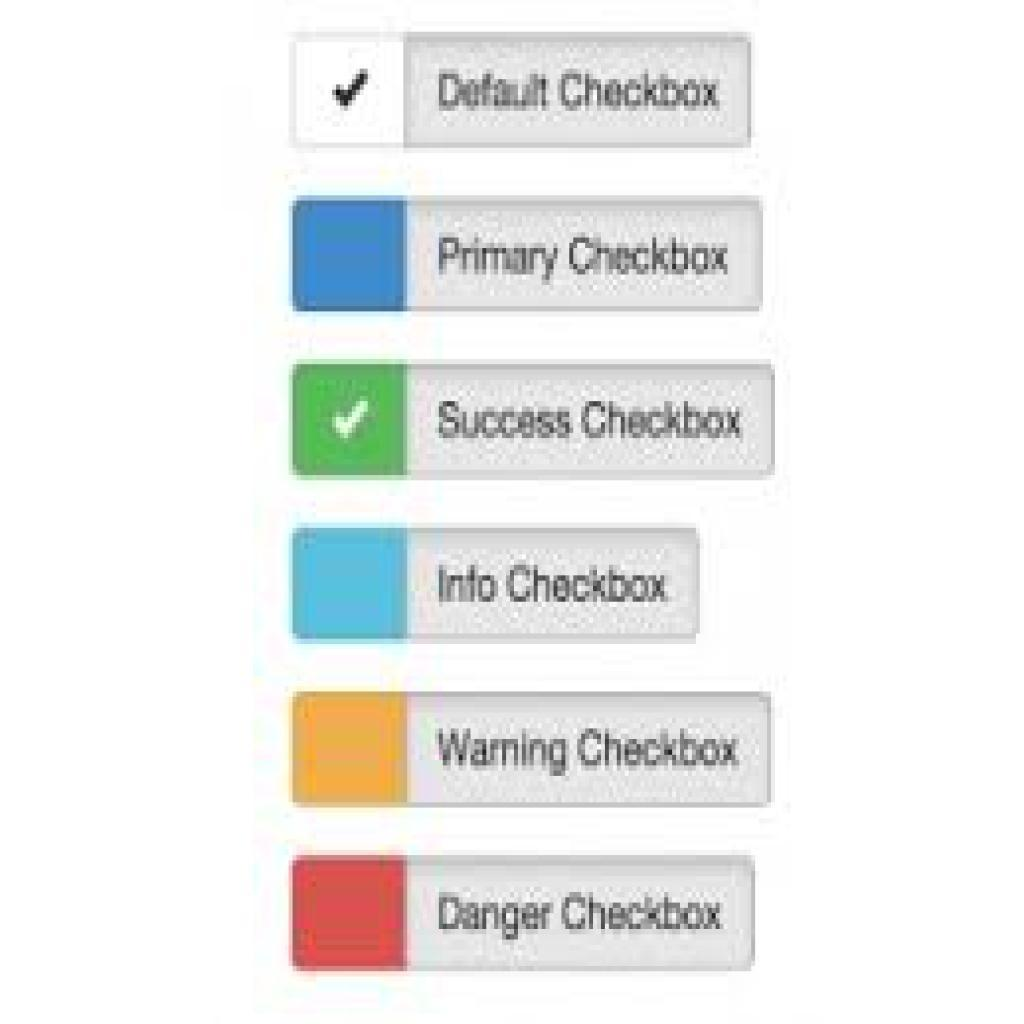button: (409, 691, 772, 807), (406, 854, 759, 973), (410, 196, 762, 310), (408, 365, 776, 473), (403, 31, 750, 144), (406, 529, 698, 637)
checkbox: (294, 366, 407, 476), (295, 36, 406, 147)
